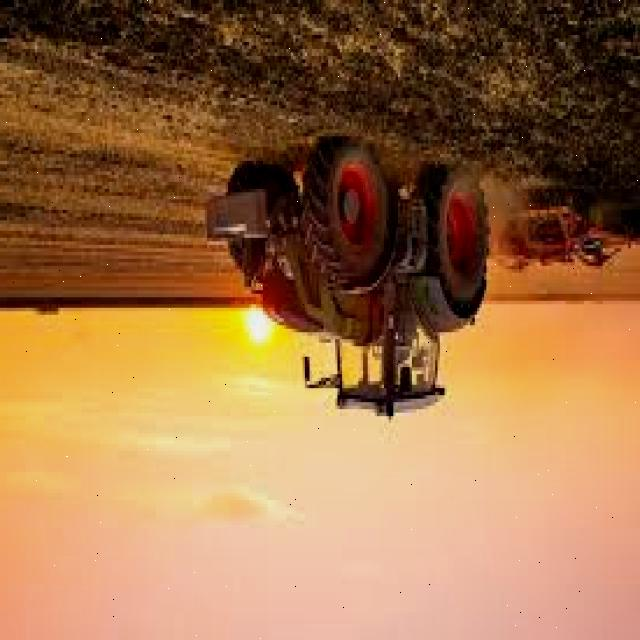Tratores - v5 YOLO V8L 2024-11-13: (206, 136, 488, 416)
